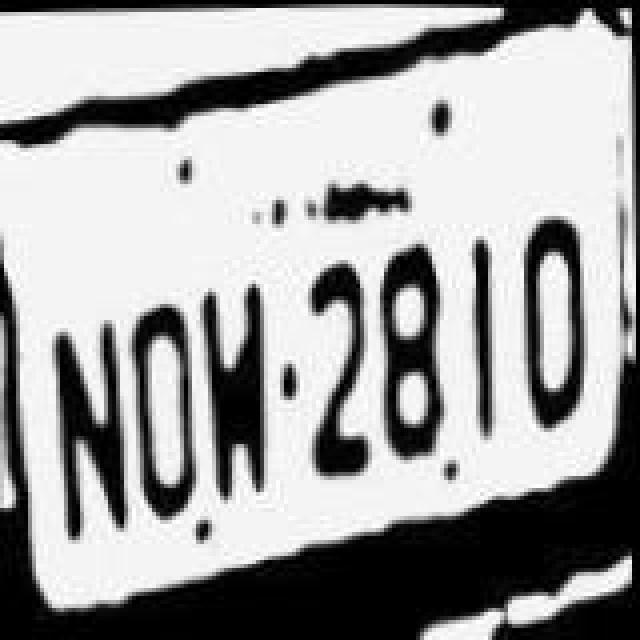1: (456, 208, 512, 448)
2: (296, 240, 380, 512)
8: (372, 208, 452, 464)
N: (42, 292, 134, 560)
O: (124, 262, 208, 522), (514, 192, 598, 444)
W: (198, 240, 278, 504)
